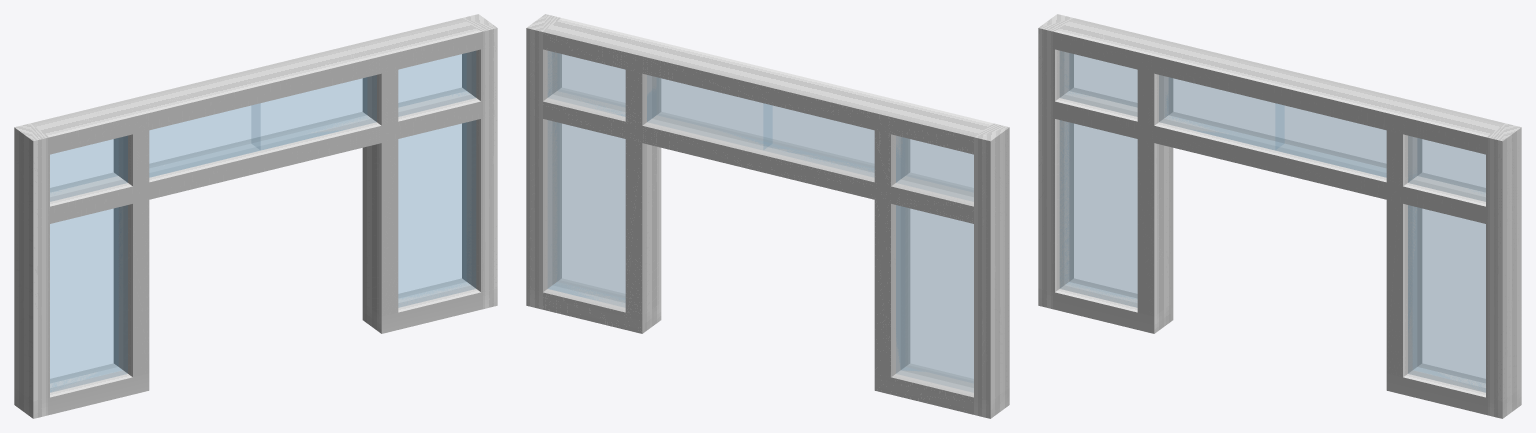
The model's file is level_1_front_door_frame.fbx.
3 renders of one model, left to right at view 1: azimuth 30°, elevation 25°; view 2: azimuth 150°, elevation 25°; view 3: azimuth 330°, elevation 25°, orthographic.
Parts seen in each view (by area): view 1: Cube.007; view 2: Cube.007; view 3: Cube.007.
Boxes of the visible parts, bbox=[...] form: Cube.007: bbox=[14, 14, 497, 418]; Cube.007: bbox=[526, 14, 1009, 418]; Cube.007: bbox=[1038, 14, 1521, 418].
Bounding box in the file's own units: 700 × 400 × 50.
